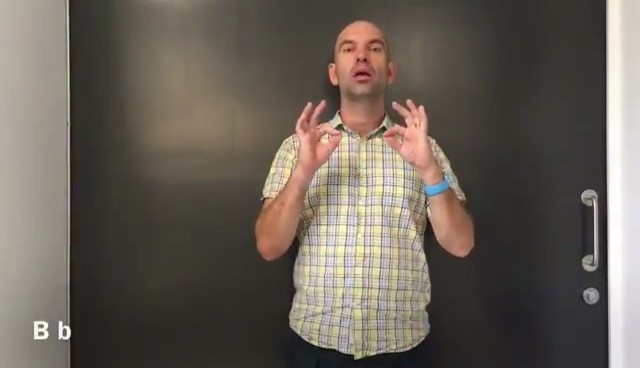B: (289, 90, 448, 183)
